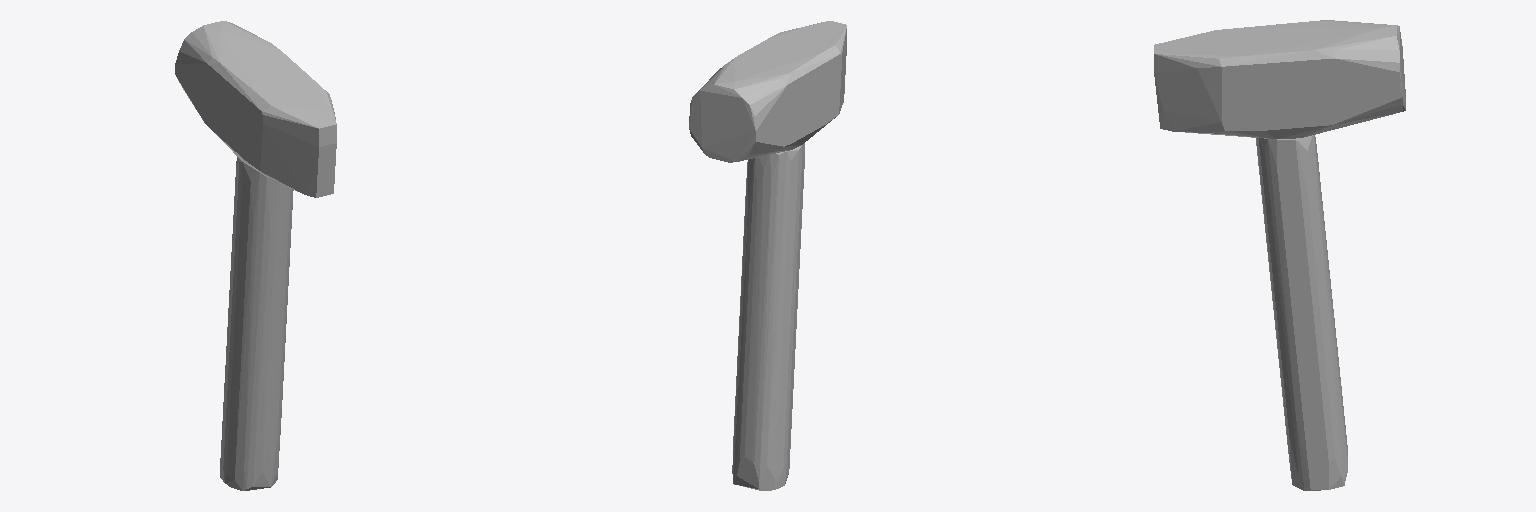
robot.urdf — root:
<robot name="root">
  <link name="link_b93077d288b5f7e25f248f0088614e84_convex_piece_0">
    <inertial>
      <origin rpy="0 0 0" xyz="0 0 0"/>
      <mass value="5.28E-06"/>
      <inertia ixx="1.13E-09" ixy="-2.50E-13" ixz="1.48E-12" iyy="1.04E-09" iyz="-6.45E-10" izz="1.61E-10"/>
    </inertial>
    <visual>
      <origin rpy="0 0 0" xyz="0 0 0"/>
      <geometry>
        <mesh filename="b93077d288b5f7e25f248f0088614e84_convex_piece_0.obj" scale="1.0000E+00"/>
      </geometry>
      <material name="">
        <color rgba="7.50E-01 7.50E-01 7.50E-01 1"/>
      </material>
    </visual>
    <collision>
      <origin rpy="0 0 0" xyz="0 0 0"/>
      <geometry>
        <mesh filename="b93077d288b5f7e25f248f0088614e84_convex_piece_0.obj" scale="1.0000E+00"/>
      </geometry>
    </collision>
  </link>
  <link name="link_b93077d288b5f7e25f248f0088614e84_convex_piece_1">
    <inertial>
      <origin rpy="0 0 0" xyz="0 0 0"/>
      <mass value="7.70E-06"/>
      <inertia ixx="8.34E-09" ixy="-5.34E-13" ixz="-2.11E-11" iyy="7.45E-09" iyz="1.84E-10" izz="1.14E-09"/>
    </inertial>
    <visual>
      <origin rpy="0 0 0" xyz="0 0 0"/>
      <geometry>
        <mesh filename="b93077d288b5f7e25f248f0088614e84_convex_piece_1.obj" scale="1.0000E+00"/>
      </geometry>
      <material name="">
        <color rgba="7.50E-01 7.50E-01 7.50E-01 1"/>
      </material>
    </visual>
    <collision>
      <origin rpy="0 0 0" xyz="0 0 0"/>
      <geometry>
        <mesh filename="b93077d288b5f7e25f248f0088614e84_convex_piece_1.obj" scale="1.0000E+00"/>
      </geometry>
    </collision>
  </link>
  <joint name="link_b93077d288b5f7e25f248f0088614e84_convex_piece_1_joint" type="fixed">
    <origin rpy="0 0 0" xyz="0 0 0"/>
    <parent link="link_b93077d288b5f7e25f248f0088614e84_convex_piece_0"/>
    <child link="link_b93077d288b5f7e25f248f0088614e84_convex_piece_1"/>
  </joint>
</robot>

--- Facts derived from the render (not from the file) ---
The picture shows the robot from 3 angles, left to right: view 1: azimuth 30°, elevation 25°; view 2: azimuth 150°, elevation 25°; view 3: azimuth 270°, elevation 25°; orthographic projection.
Model root with 2 links and 1 joints (1 fixed), rooted at link_b93077d288b5f7e25f248f0088614e84_convex_piece_0, posed every joint at zero.
Visible links, largest first — view 1: link_b93077d288b5f7e25f248f0088614e84_convex_piece_0, link_b93077d288b5f7e25f248f0088614e84_convex_piece_1; view 2: link_b93077d288b5f7e25f248f0088614e84_convex_piece_0, link_b93077d288b5f7e25f248f0088614e84_convex_piece_1; view 3: link_b93077d288b5f7e25f248f0088614e84_convex_piece_1, link_b93077d288b5f7e25f248f0088614e84_convex_piece_0.
Link boxes in pixels (x1,y1,x2,y2): link_b93077d288b5f7e25f248f0088614e84_convex_piece_0: (220, 157, 293, 490); link_b93077d288b5f7e25f248f0088614e84_convex_piece_1: (175, 21, 336, 197); link_b93077d288b5f7e25f248f0088614e84_convex_piece_0: (732, 143, 804, 490); link_b93077d288b5f7e25f248f0088614e84_convex_piece_1: (689, 21, 846, 162); link_b93077d288b5f7e25f248f0088614e84_convex_piece_1: (1154, 20, 1405, 138); link_b93077d288b5f7e25f248f0088614e84_convex_piece_0: (1256, 135, 1347, 490).
Size in the robot's own frame: 0.0151 by 0.0457 by 0.0903 metres.
2 mesh visuals loaded from 2 distinct referenced files (2 OBJ).